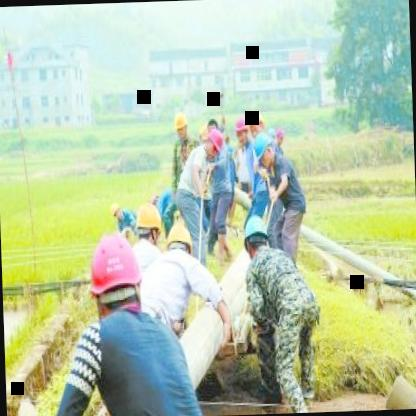helmet: (87, 228, 147, 324), (240, 213, 270, 262), (166, 217, 196, 265), (136, 201, 162, 252), (252, 130, 276, 168), (202, 125, 224, 158), (248, 107, 267, 140), (233, 113, 250, 147), (172, 112, 190, 140), (108, 199, 124, 223)
